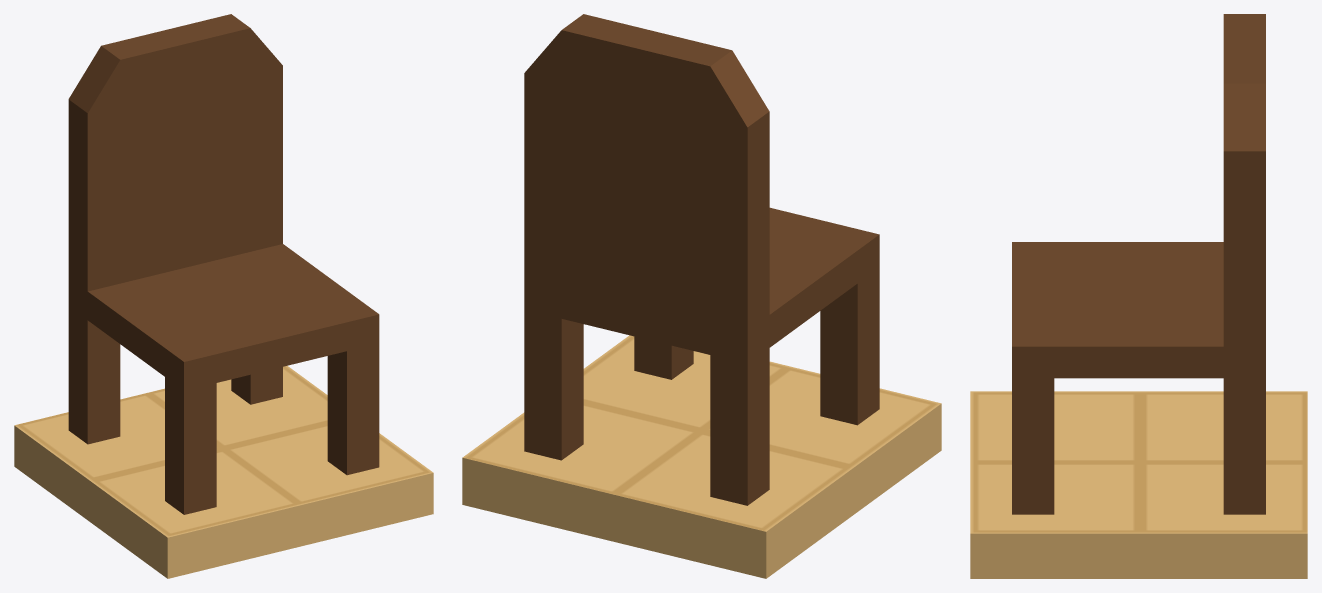
File: chair.fbx
3 renders of one model, left to right at view 1: azimuth 30°, elevation 25°; view 2: azimuth 150°, elevation 25°; view 3: azimuth 270°, elevation 25°, orthographic. The views are drawn at different scales.
Parts seen in each view (by area): view 1: chair, tile; view 2: chair, tile; view 3: chair, tile.
Part boxes in pixels (x1,y1,x2,y2): chair: (68, 14, 379, 514); tile: (14, 365, 433, 578); chair: (524, 14, 879, 505); tile: (462, 335, 941, 578); chair: (1012, 14, 1265, 514); tile: (970, 391, 1307, 578).
Bounding box in the file's own units: 1.98 × 2.98 × 1.98.
